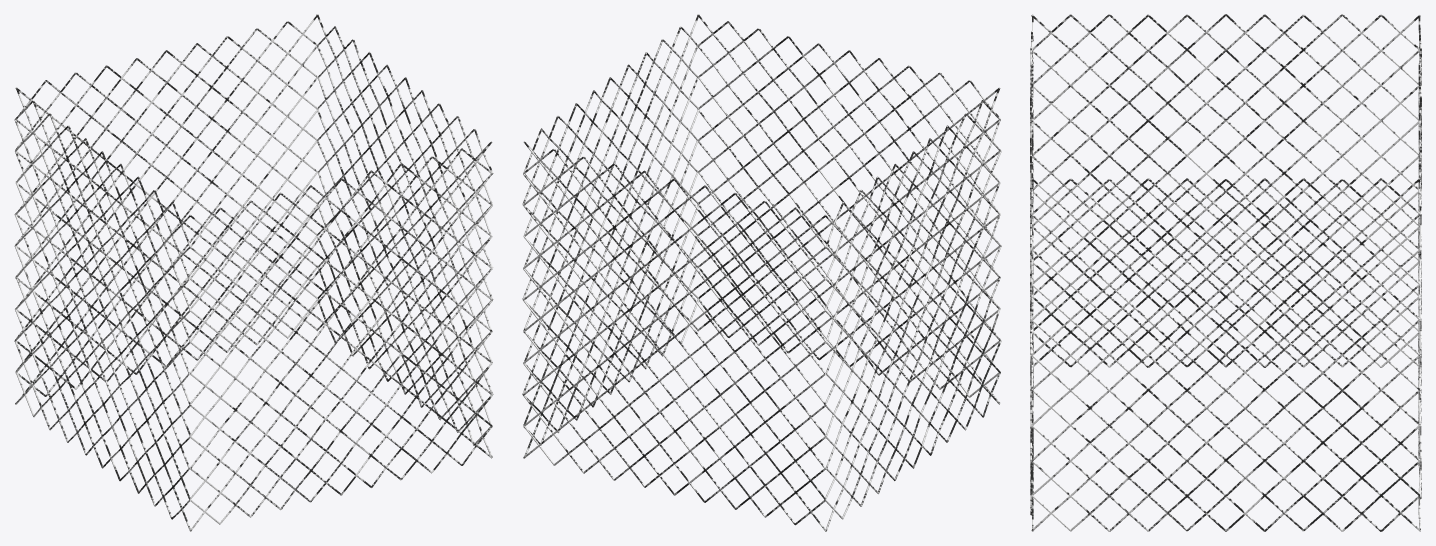
The model's file is 10_黑白蛇紋網格_10x10.glb.
3 views of the same model, side by side, from view 1: azimuth 30°, elevation 25°; view 2: azimuth 150°, elevation 25°; view 3: azimuth 270°, elevation 25° (orthographic). The views are drawn at different scales.
Visible parts, largest first — view 1: cube72.001, cube74.001, cube75.001, cube73.001; view 2: cube74.001, cube72.001, cube75.001, cube73.001; view 3: cube73.001, cube75.001, cube72.001, cube74.001.
Boxes of the visible parts, box(x1,y1,x2,y2) form: cube72.001: box(189, 141, 492, 531); cube74.001: box(15, 14, 318, 404); cube75.001: box(14, 87, 191, 530); cube73.001: box(316, 14, 493, 457); cube74.001: box(523, 141, 826, 530); cube72.001: box(697, 14, 1000, 404); cube75.001: box(824, 89, 1001, 531); cube73.001: box(522, 14, 699, 456); cube73.001: box(1031, 178, 1420, 531); cube75.001: box(1031, 14, 1420, 367); cube72.001: box(1030, 15, 1033, 531); cube74.001: box(1418, 14, 1421, 531).
Size of the model in its own units: 2.52 by 2.51 by 2.52.
Materials: 1 (1 with a texture image).
